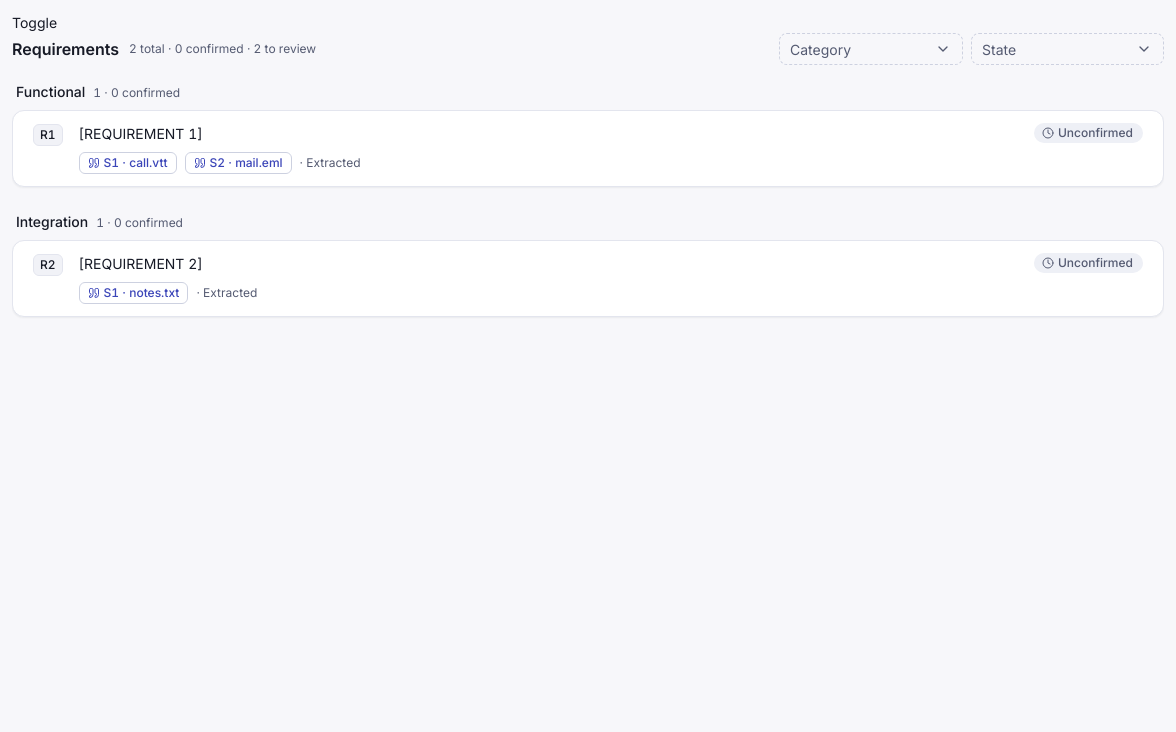
Requirements list and Evidence inspector › Close after a keyboard open returns focus to the row
Step 1. Press Tab
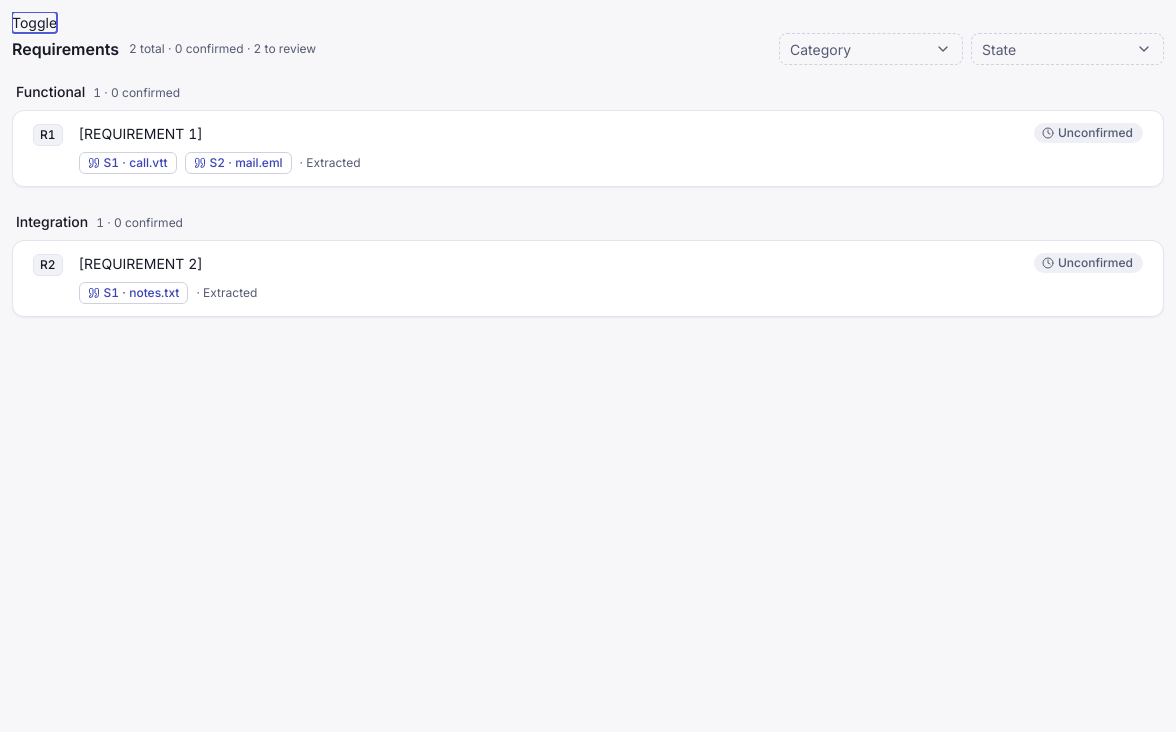
Step 2. Press Tab
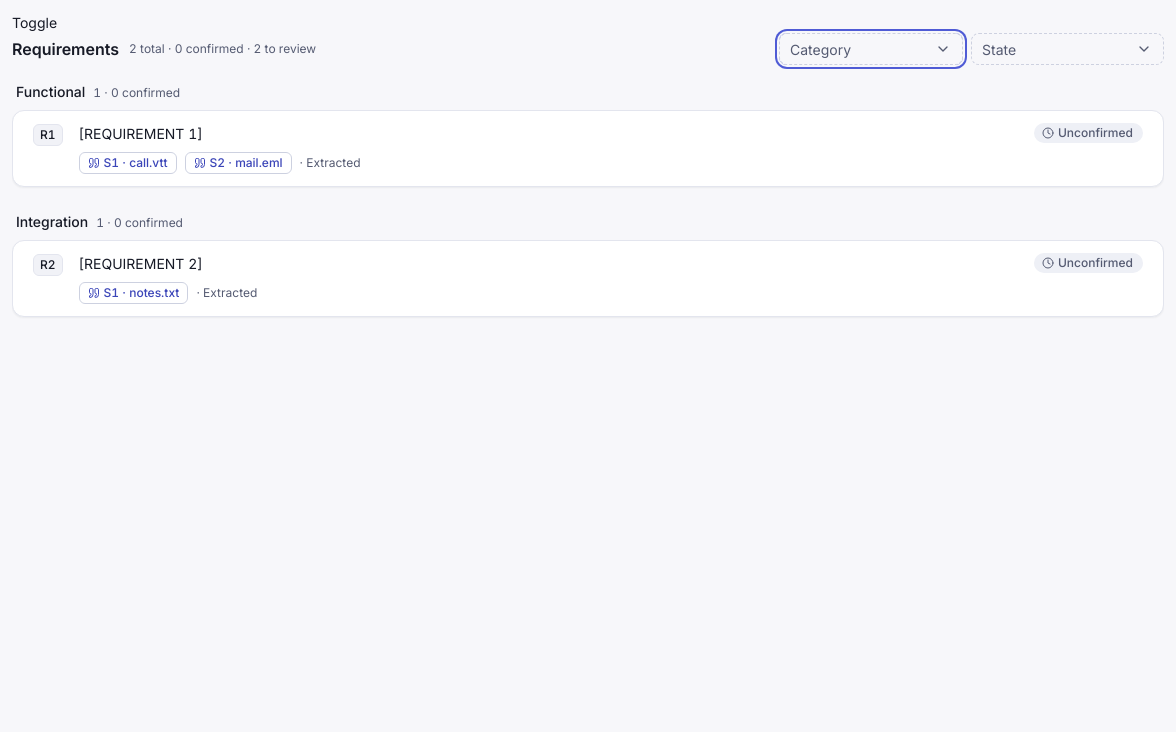
Step 3. Press Tab
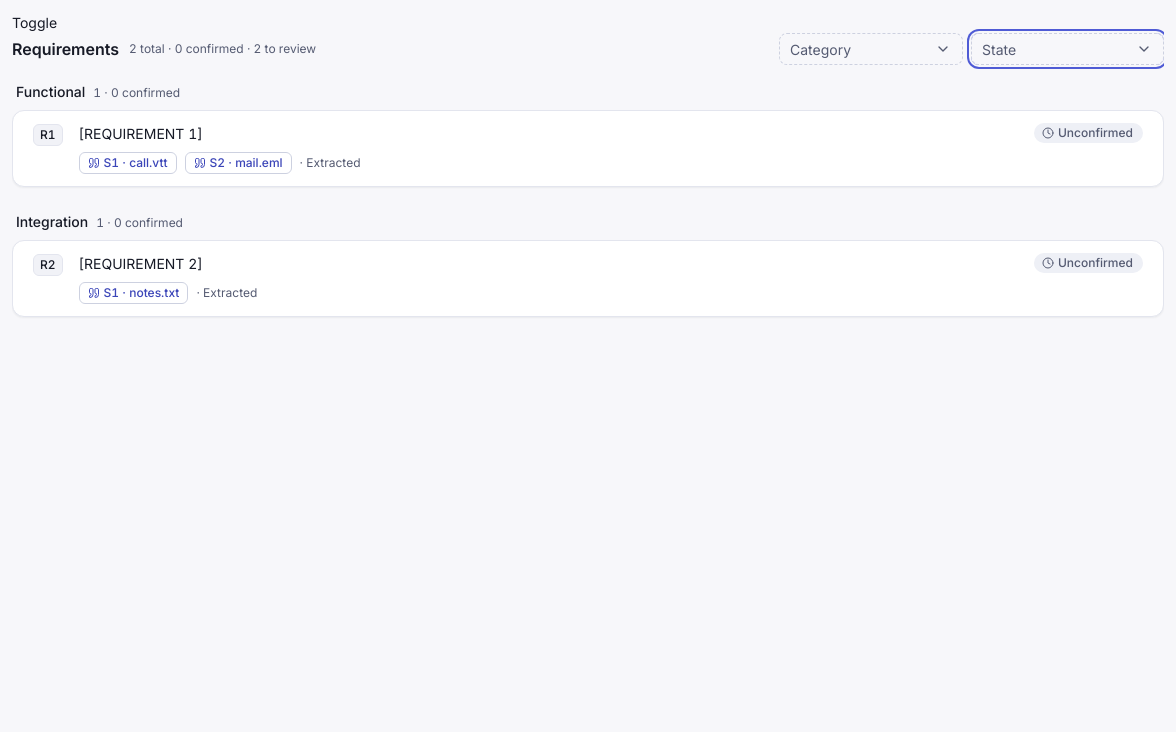
Step 4. Press Tab
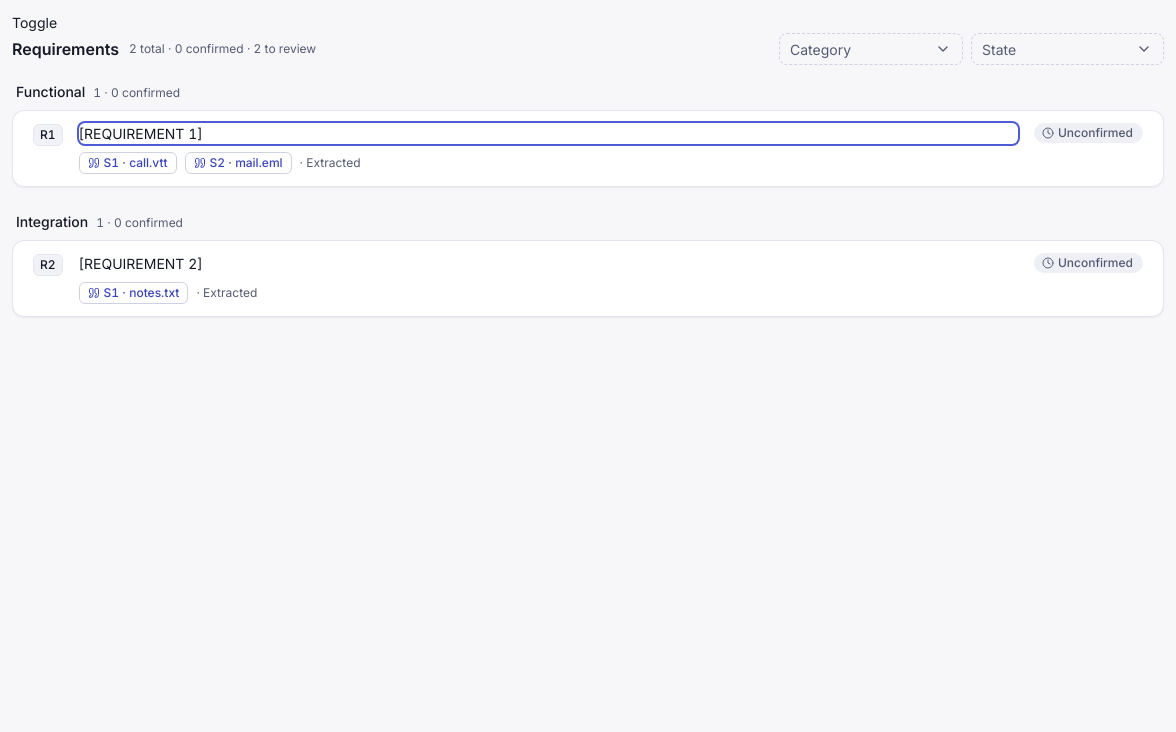
Step 5. Type keys "j{Enter}"
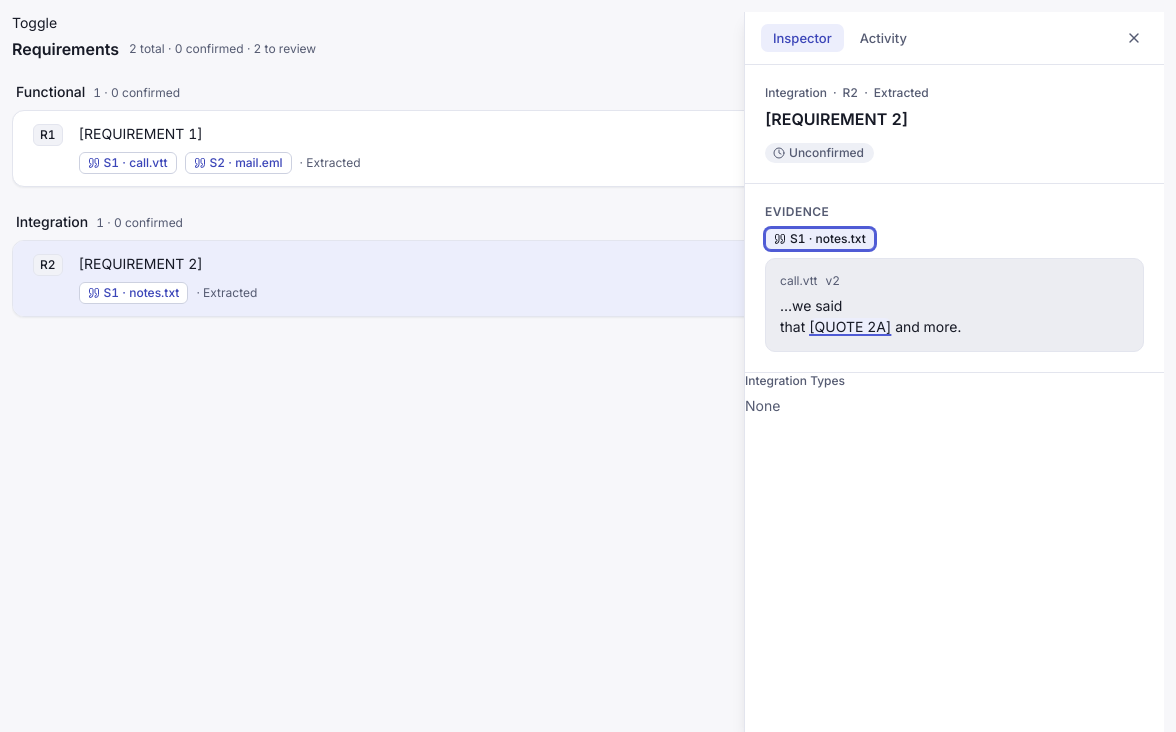
Step 6. Click the button named "Close right pane" → (1134, 38), box [1120,24,1148,52]
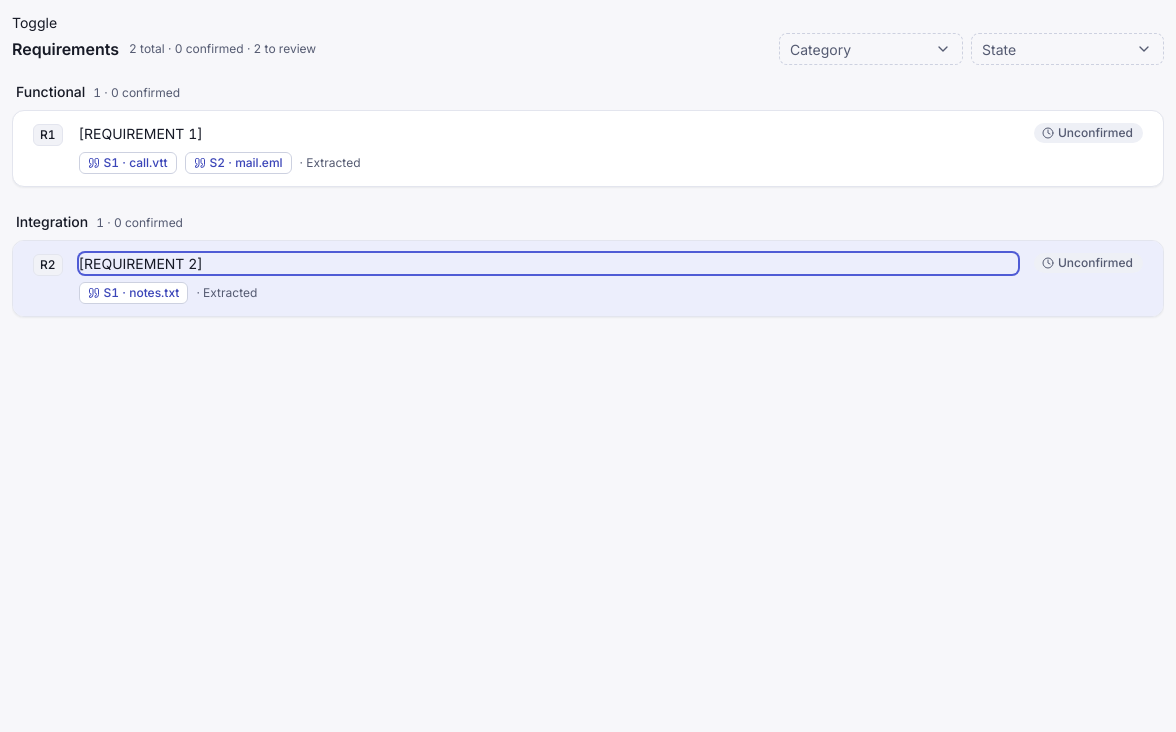
Check: the element "Details" is gone
